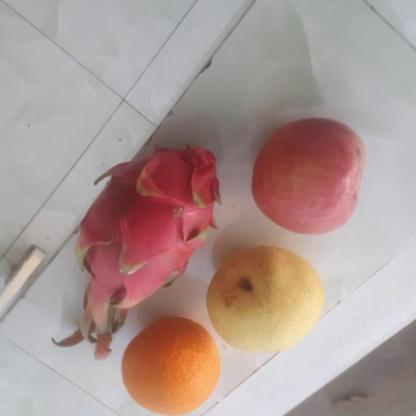apple: (249, 122, 372, 241)
orange: (118, 317, 224, 416)
pear: (205, 247, 331, 352)
pitaya: (78, 146, 224, 310)
